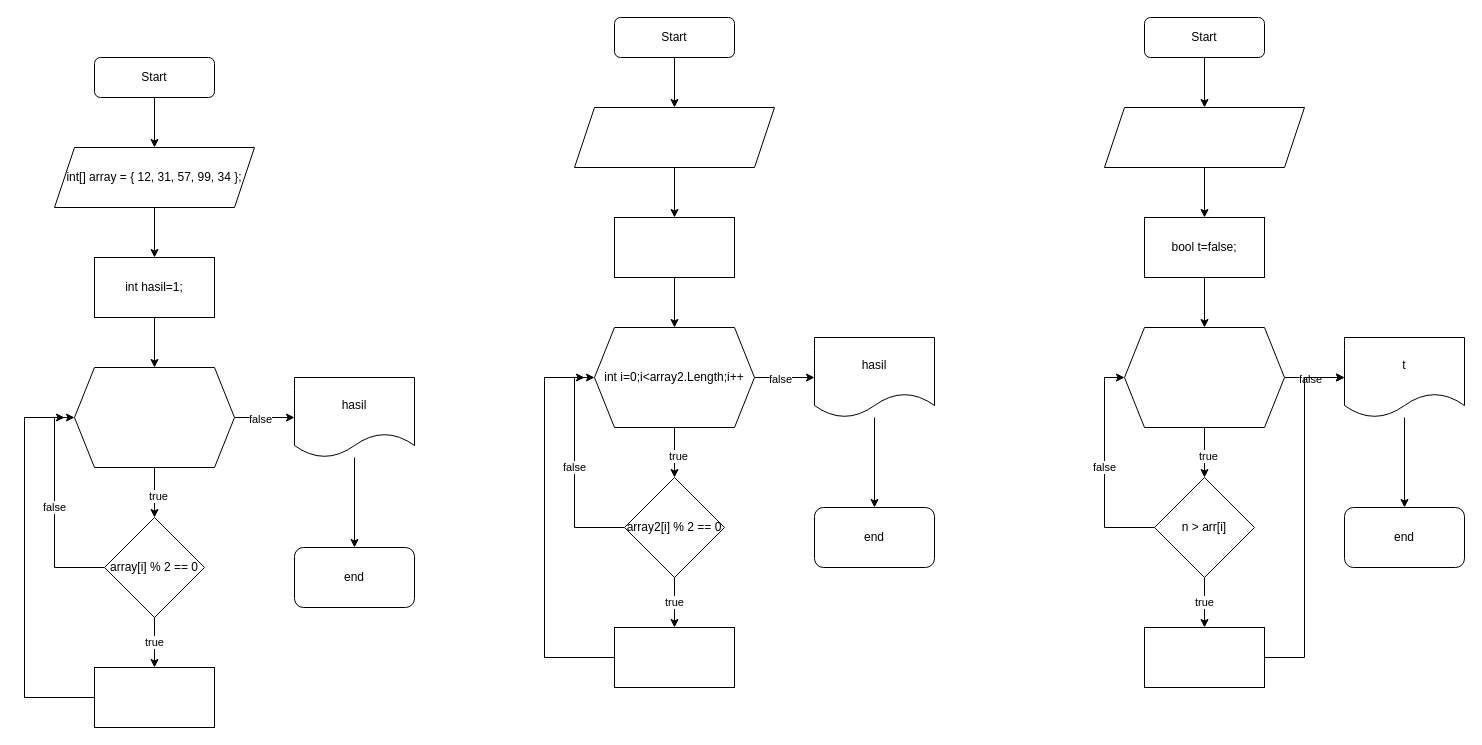
The diagram is 1482 pixels wide and 745 high, and some of its shapes have lost their labels. The shapes that lost their labels are listed below. From the top down, each one's box as (x1, y1, x2, y2) in pixels, then its label:
(574, 106, 774, 168): int[] array2 = { 323, 31,2, 345,4 };
(1104, 106, 1304, 168): int[] arr = { 12, 31, 57, 99, 34 }; int n = 58;
(614, 216, 734, 278): int sum=0
(1124, 326, 1284, 428): int i=0;i<arr.Length;i++
(74, 366, 234, 468): int i=0;i<array.Length;i++
(614, 626, 734, 688): sum+=array2[i];
(1144, 626, 1264, 688): t=true; break;
(94, 666, 214, 728): hasil*=array[i];
